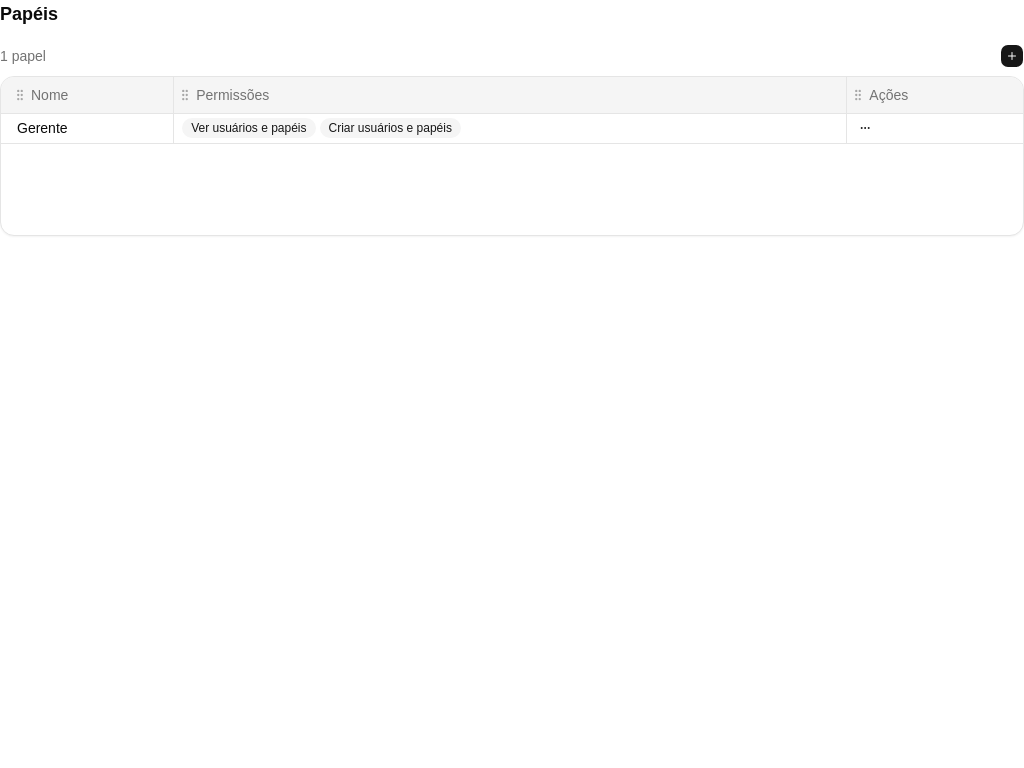
Test case: RolesListPage › drops the deleted role from the list without a manual reload
Click the button named "Ações de Gerente" at (865, 128), box top-left (855, 118), bottom-right (875, 138)
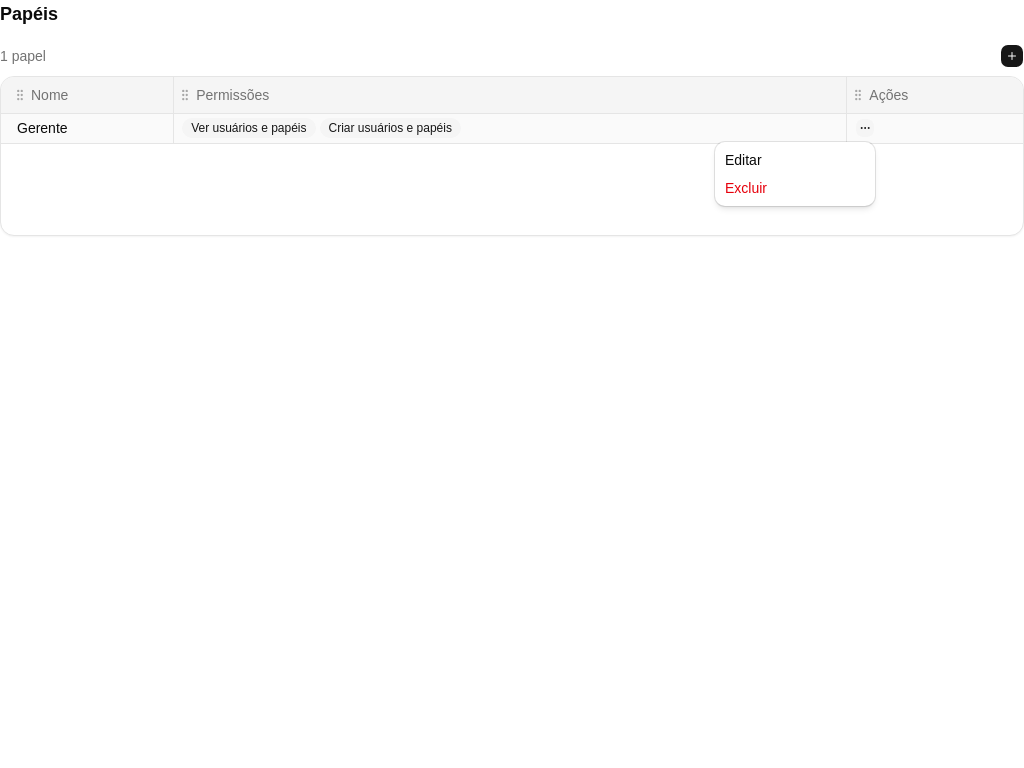
Click the menu item "Excluir" at (746, 188), box top-left (725, 180), bottom-right (767, 196)
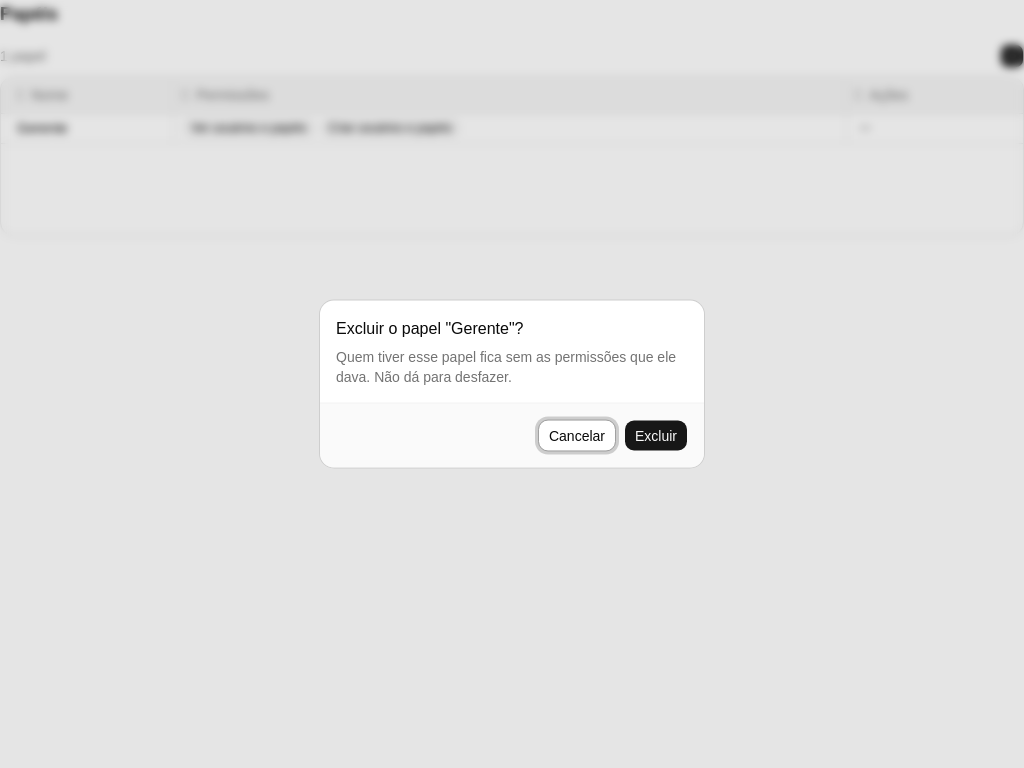
Click the button "Excluir" at (656, 436), box top-left (624, 420), bottom-right (688, 452)
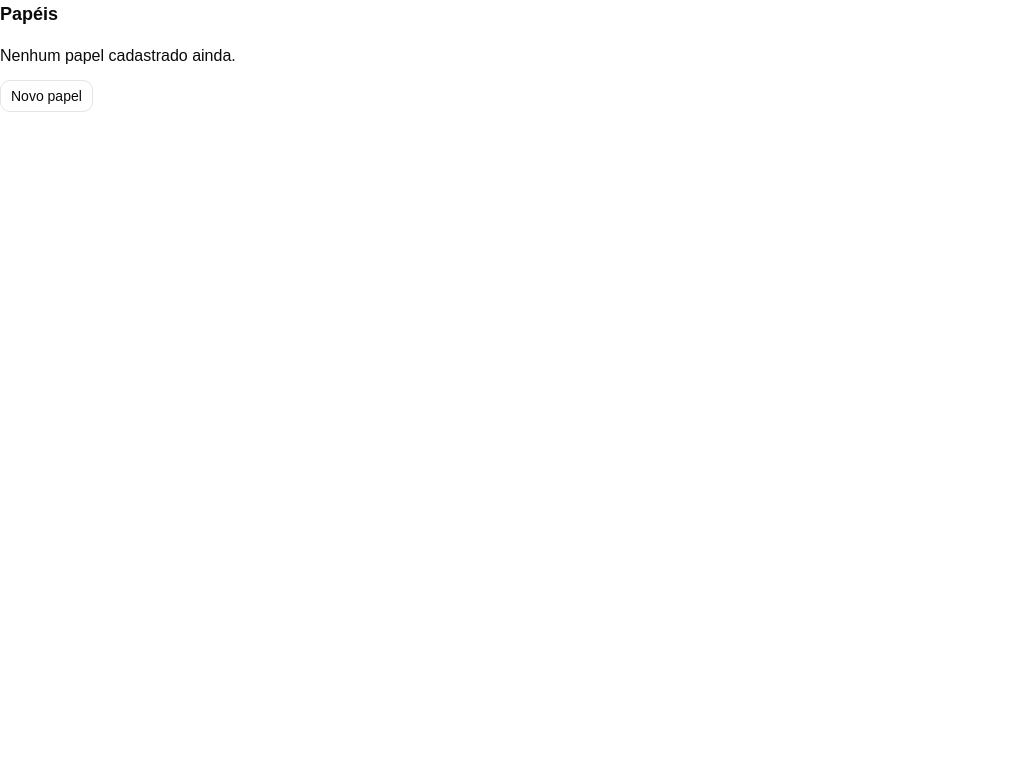
Check: the text "Nenhum papel cadastrado ainda." is shown, box top-left (0, 44), bottom-right (236, 68)
